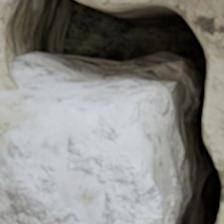brick: (0, 88, 162, 223)
crack: (0, 0, 223, 223)
